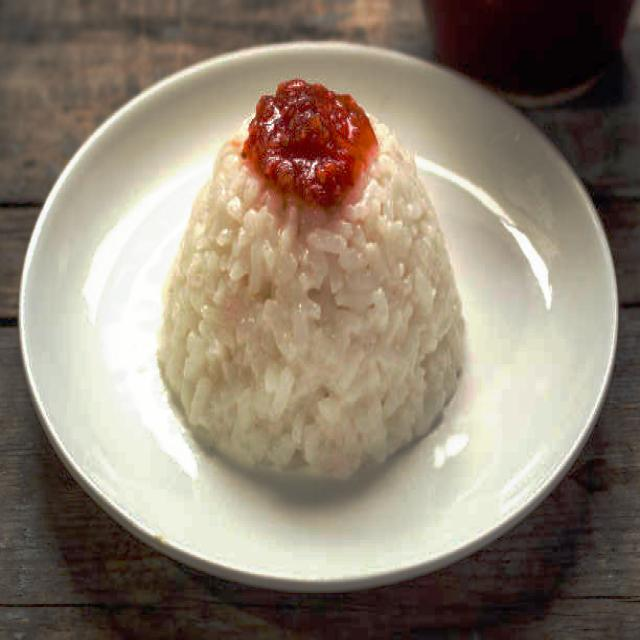rice: (155, 97, 466, 482)
